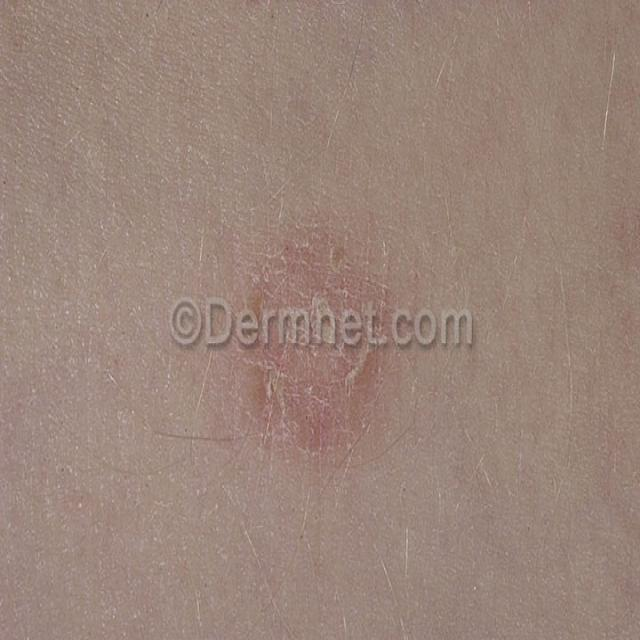Eczema: (217, 236, 406, 455)
